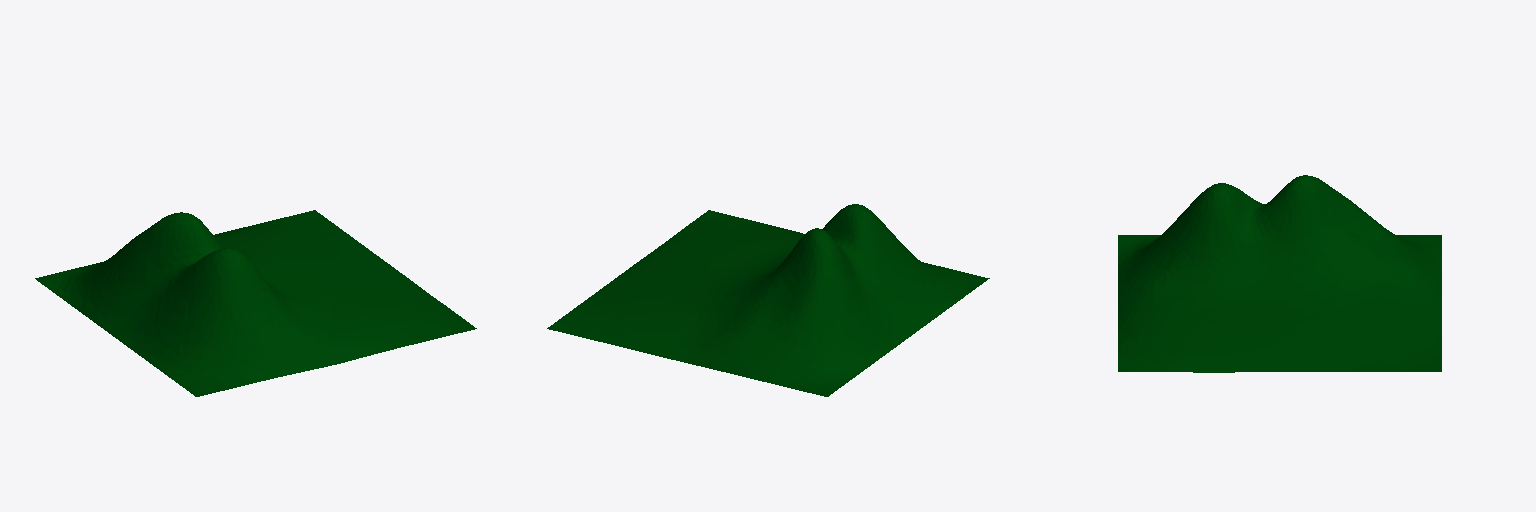
Rendered from gunung.obj.
The picture shows the model from 3 angles: view 1: azimuth 30°, elevation 25°; view 2: azimuth 150°, elevation 25°; view 3: azimuth 270°, elevation 25°; orthographic projection.
Parts seen in each view (by area): view 1: Landscape; view 2: Landscape; view 3: Landscape.
Part boxes in pixels (left/top/right/bottom): Landscape: left=35, top=210, right=476, bottom=396; Landscape: left=547, top=204, right=989, bottom=396; Landscape: left=1118, top=175, right=1441, bottom=372.
Bounding box in the file's own units: 60 × 19.98 × 60.